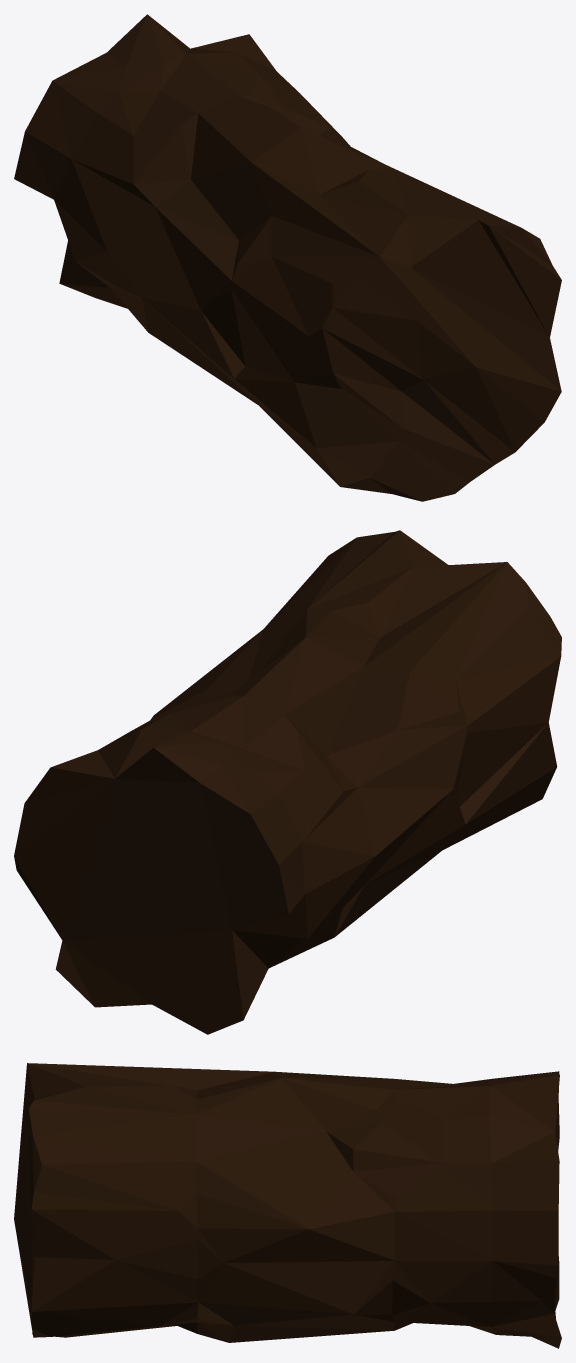
File: log.fbx
The picture shows the model from 3 angles, top to bottom: view 1: azimuth 30°, elevation 25°; view 2: azimuth 150°, elevation 25°; view 3: azimuth 270°, elevation 25°; orthographic projection. The views are drawn at different scales.
Visible parts, largest first — view 1: Cylinder; view 2: Cylinder; view 3: Cylinder.
Part boxes in pixels (x1,y1,x2,y2): Cylinder: [14, 14, 561, 501]; Cylinder: [14, 530, 561, 1034]; Cylinder: [14, 1063, 561, 1348].
Bounding box in the file's own units: 157 × 155 × 300.
